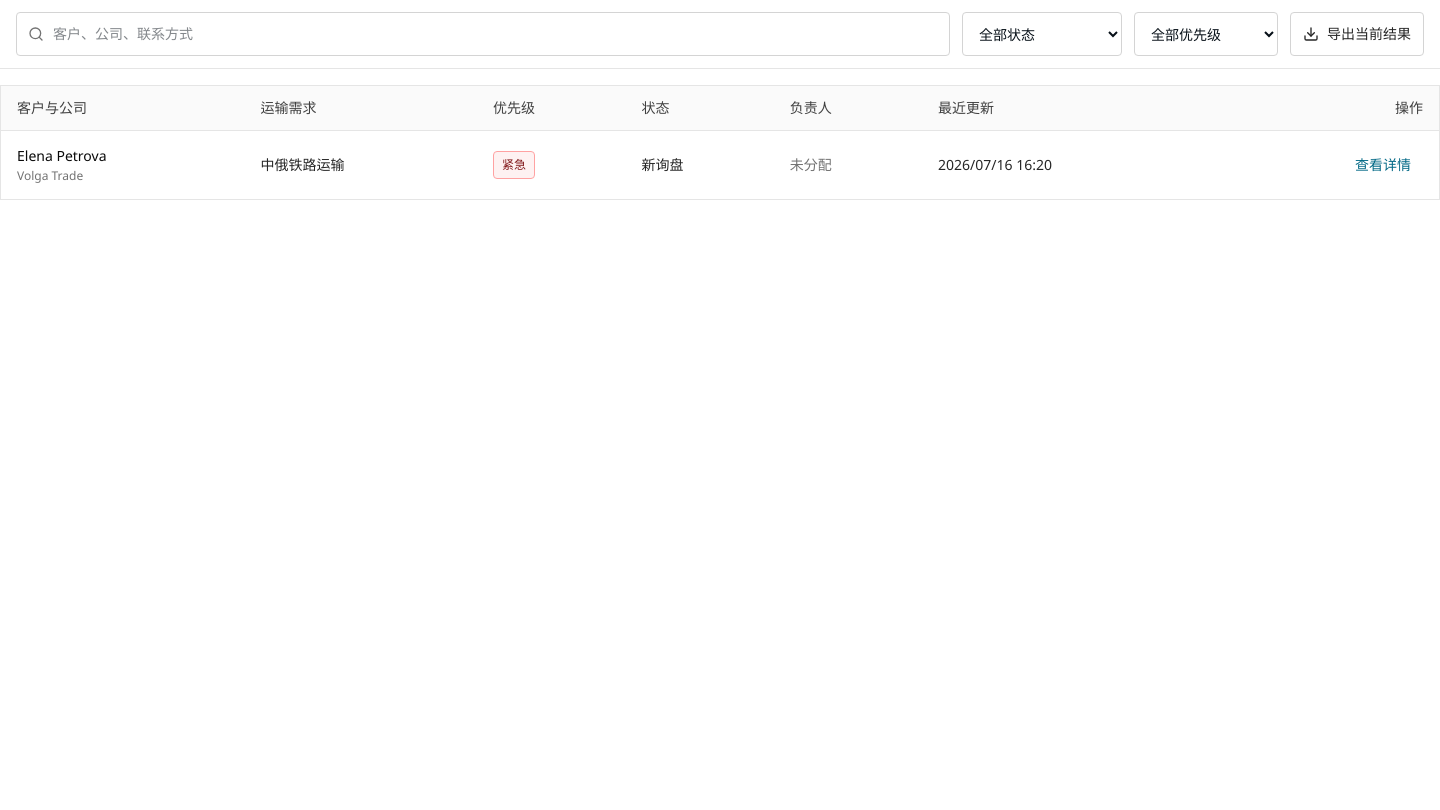
Test: InquiryList › renders an operator-facing desktop table and opens the detail drawer
Expected: the column heading "客户与公司" is shown, [1,86,245,130]
Expected: the text "Elena Petrova" is shown, [17,146,106,165]
Click the button "查看详情".
click(1383, 165)  # box [1343,143,1423,187]
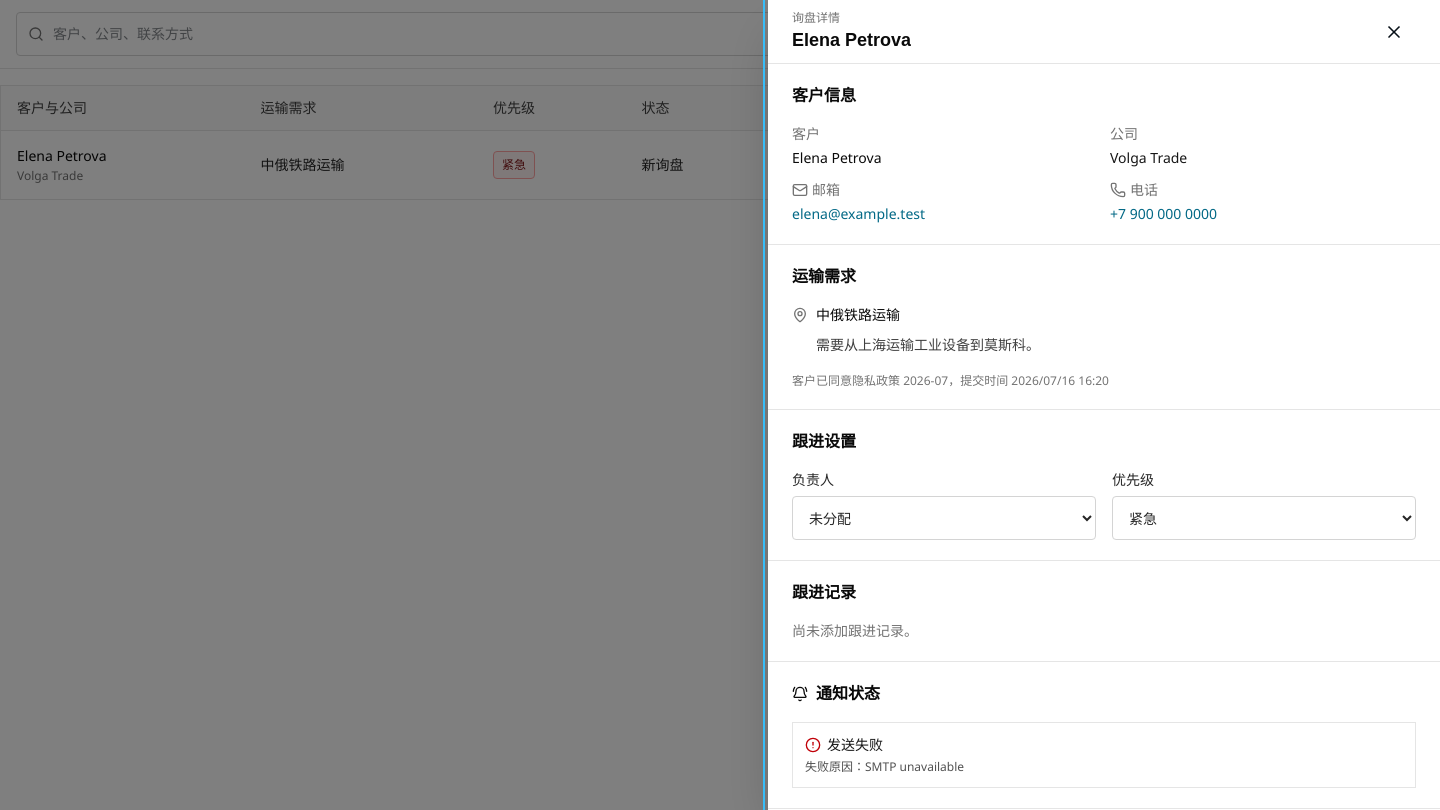
Result: the dialog "询盘详情" is shown at [768,0,1439,809]
Result: the text "需要从上海运输工业设备到莫斯科。" is shown at [816,333,1040,357]
